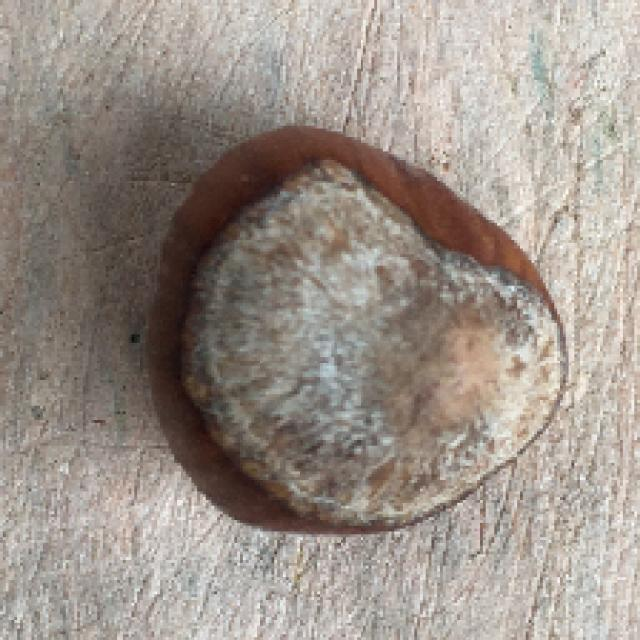qualityHazelnut: (149, 122, 574, 538)
